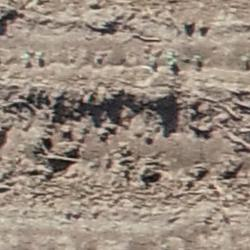cotton: (167, 57, 177, 64), (196, 55, 203, 62), (23, 53, 29, 60), (38, 53, 43, 57)
